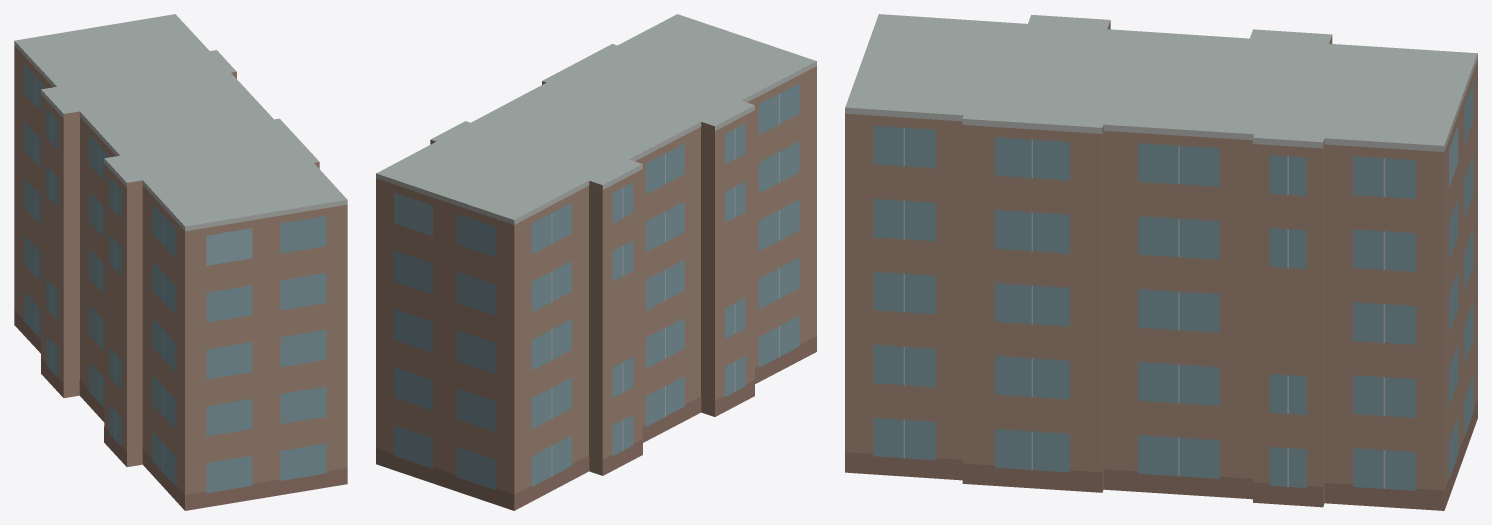
Rendered from survey-upis-32982125.glb.
3 views of the same model, side by side, from view 1: azimuth 30°, elevation 25°; view 2: azimuth 150°, elevation 25°; view 3: azimuth 270°, elevation 25° (orthographic). The views are drawn at different scales.
Visible parts, largest first — view 1: survey-upis-32982125.tmp; view 2: survey-upis-32982125.tmp; view 3: survey-upis-32982125.tmp.
Part boxes in pixels (x1,y1,x2,y2): survey-upis-32982125.tmp: (14,14,347,510); survey-upis-32982125.tmp: (376,14,816,510); survey-upis-32982125.tmp: (845,14,1477,510).
Size of the model in its own units: 11.3 by 14.56 by 22.89.
